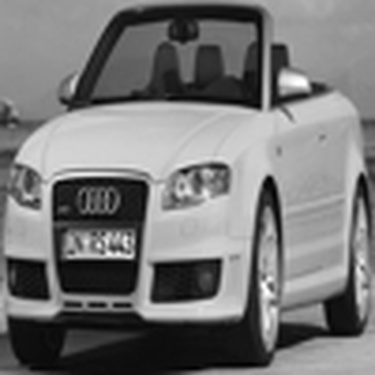car: (6, 8, 367, 349)
